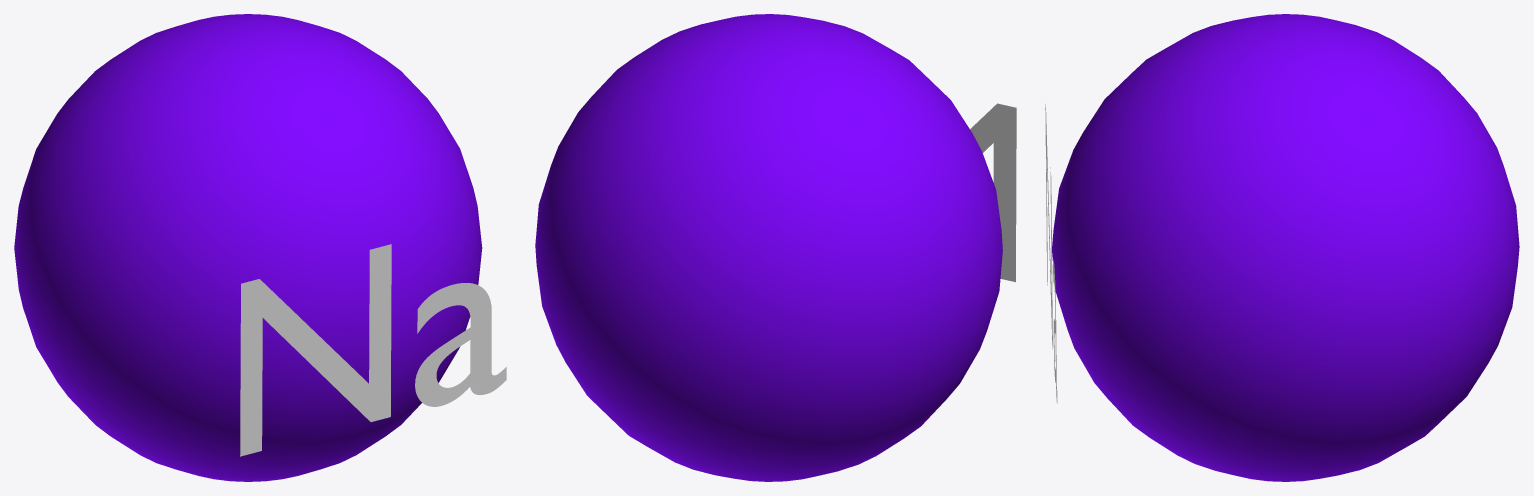
The picture shows the model from 3 angles, left to right: view 1: azimuth 30°, elevation 25°; view 2: azimuth 150°, elevation 25°; view 3: azimuth 270°, elevation 25°; orthographic projection.
Parts seen in each view (by area): view 1: 구체, 텍스트; view 2: 구체, 텍스트; view 3: 구체, 텍스트.
Part boxes in pixels (x1=…): 구체: x1=14, y1=14, x2=482, y2=481; 텍스트: x1=240, y1=244, x2=506, y2=456; 구체: x1=535, y1=14, x2=1002, y2=481; 텍스트: x1=970, y1=103, x2=1016, y2=282; 구체: x1=1052, y1=14, x2=1519, y2=481; 텍스트: x1=1045, y1=104, x2=1057, y2=403.
Size of the model in its own units: 250 by 250 by 253.
